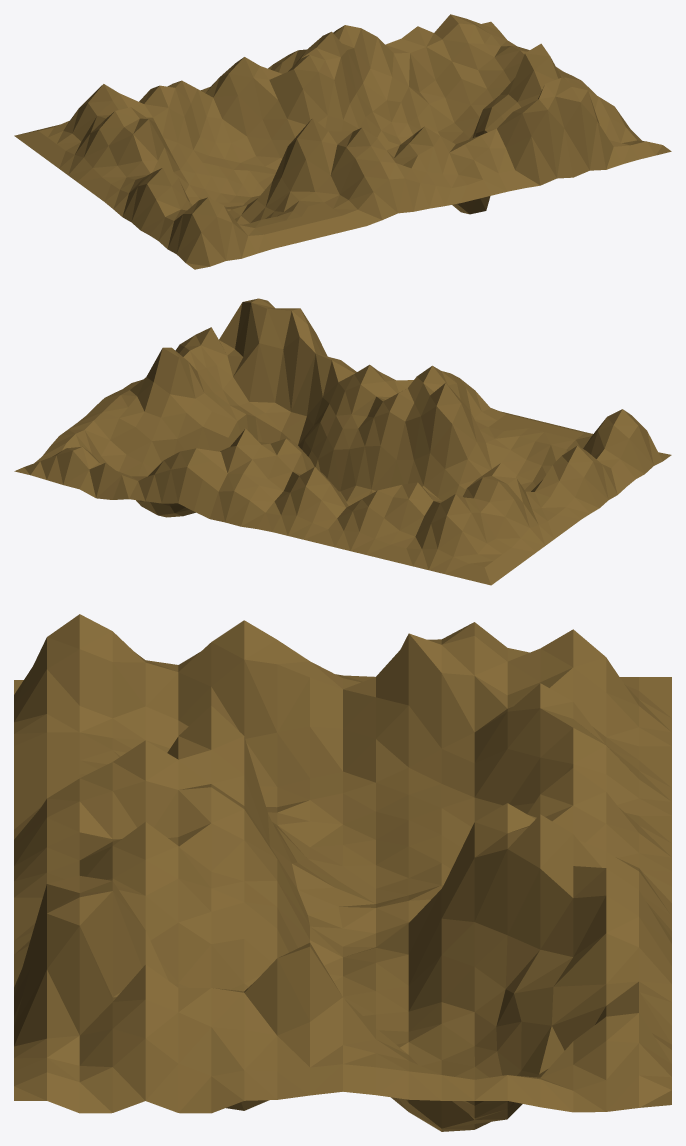
The model's file is reeftype2_large.fbx.
The picture shows the model from 3 angles, top to bottom: view 1: azimuth 30°, elevation 25°; view 2: azimuth 150°, elevation 25°; view 3: azimuth 270°, elevation 25°; orthographic projection. The views are drawn at different scales.
Visible parts, largest first — view 1: reef2; view 2: reef2; view 3: reef2.
Boxes of the visible parts, x1,y1,x2,y2 form: reef2: (14, 14, 671, 269); reef2: (14, 298, 671, 585); reef2: (14, 614, 671, 1131).
Bounding box in the file's own units: 17.28 × 5.03 × 11.33.
